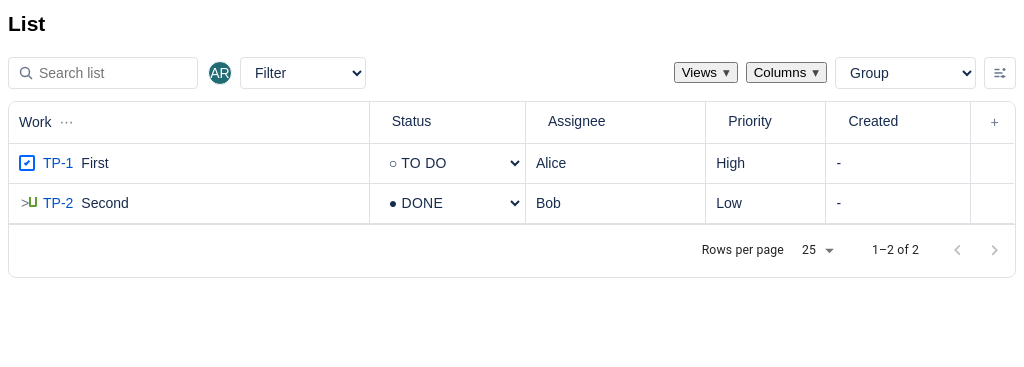
it: JL-258 — List toolbar buttons are functional, not dead affordances › opens a real menu on click and toggles aria-expanded
The width and height of the screenshot is (1024, 367).
Click the button named "Display settings" at (1000, 73), box [984,57,1016,89]
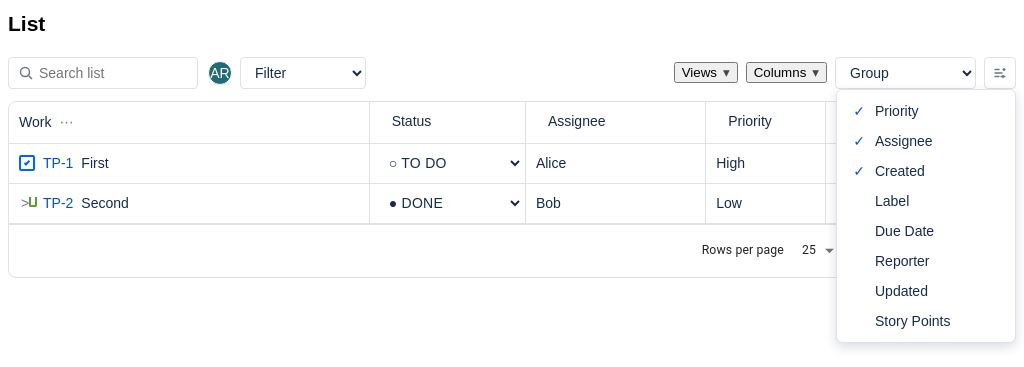
Check: the menu item "✓ Priority" is shown, box [837,96,1015,126]
Check: the menu item "Due Date" is shown, box [837,216,1015,246]
